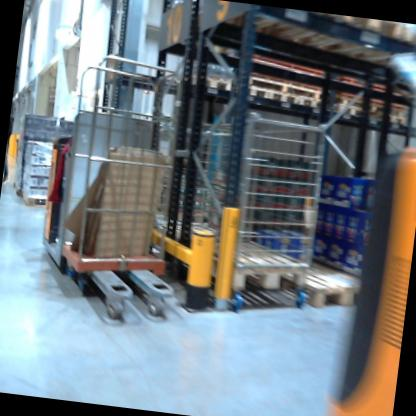pallet: (255, 243, 384, 323), (184, 234, 323, 305), (288, 11, 406, 74), (206, 2, 332, 51), (174, 61, 239, 101), (12, 185, 65, 216), (330, 99, 377, 124), (371, 109, 416, 135), (266, 84, 300, 108), (297, 92, 335, 113), (241, 78, 268, 100)
pallet_truck: (27, 126, 200, 323), (322, 121, 416, 416)
